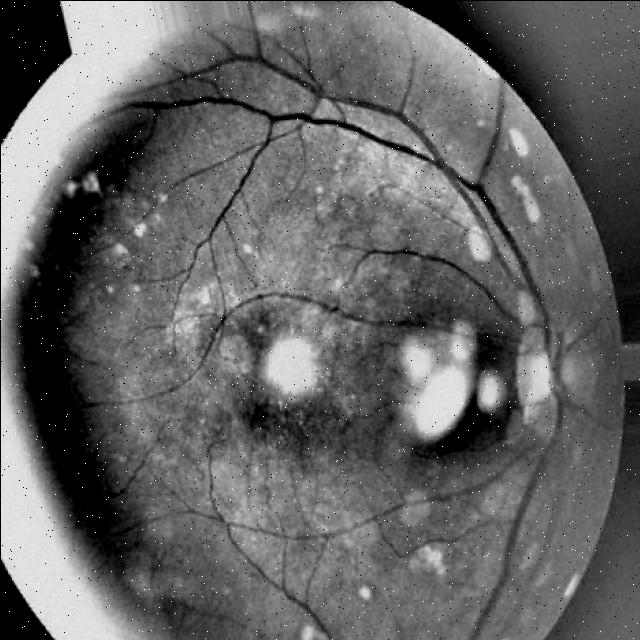Nerves: (112, 23, 587, 640)
Optic Disk: (516, 320, 594, 429)
